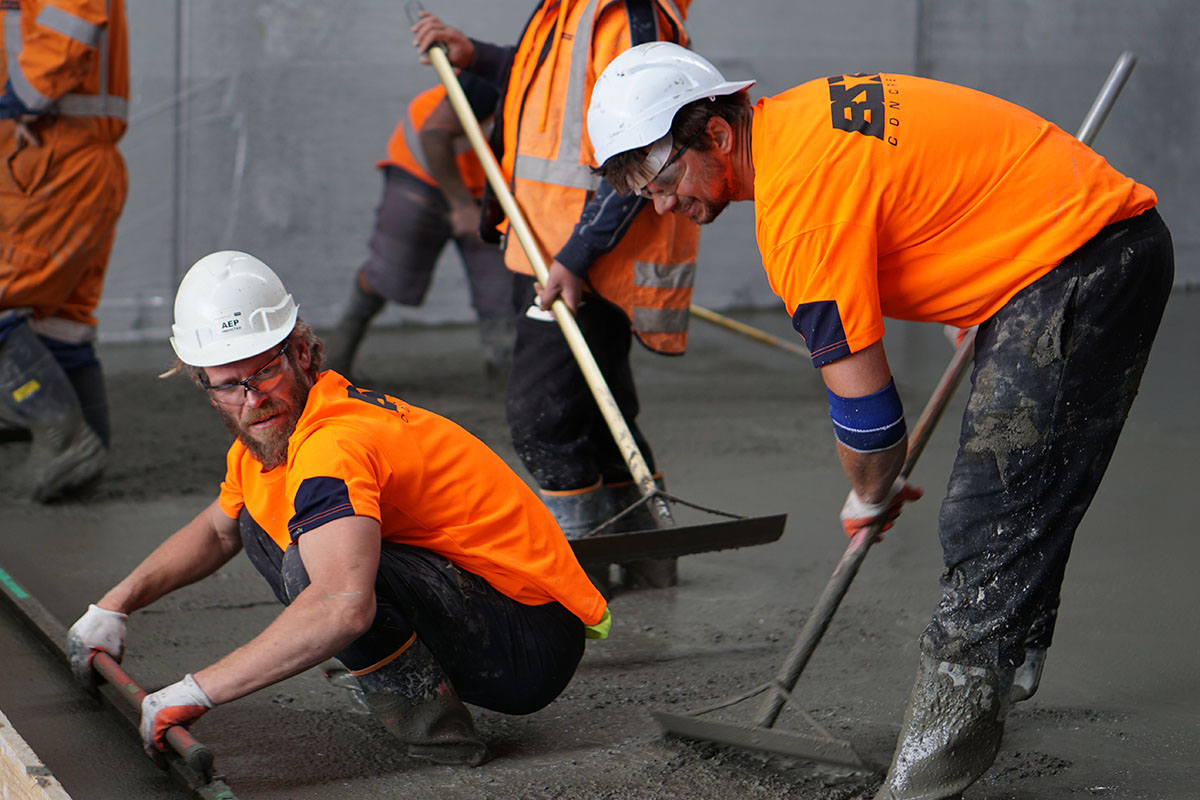hard hat: (581, 38, 755, 177), (173, 244, 300, 369)
high-vis: (498, 1, 691, 357), (1, 1, 134, 143), (382, 77, 494, 191)
